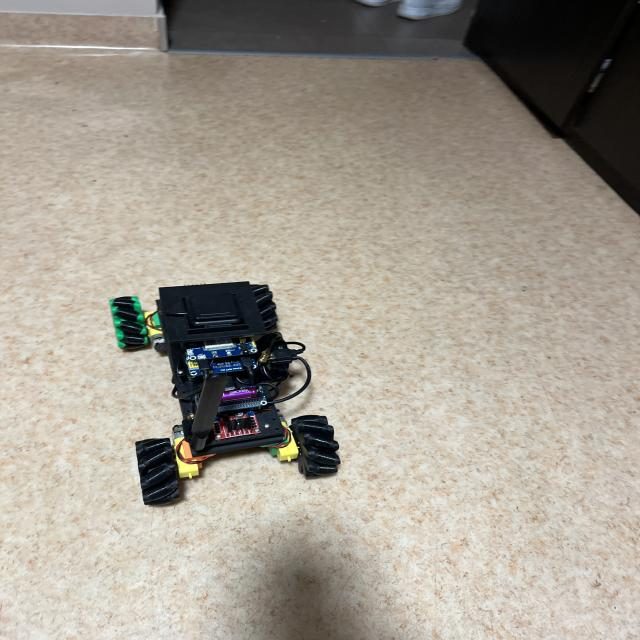robot: (110, 282, 340, 505)
